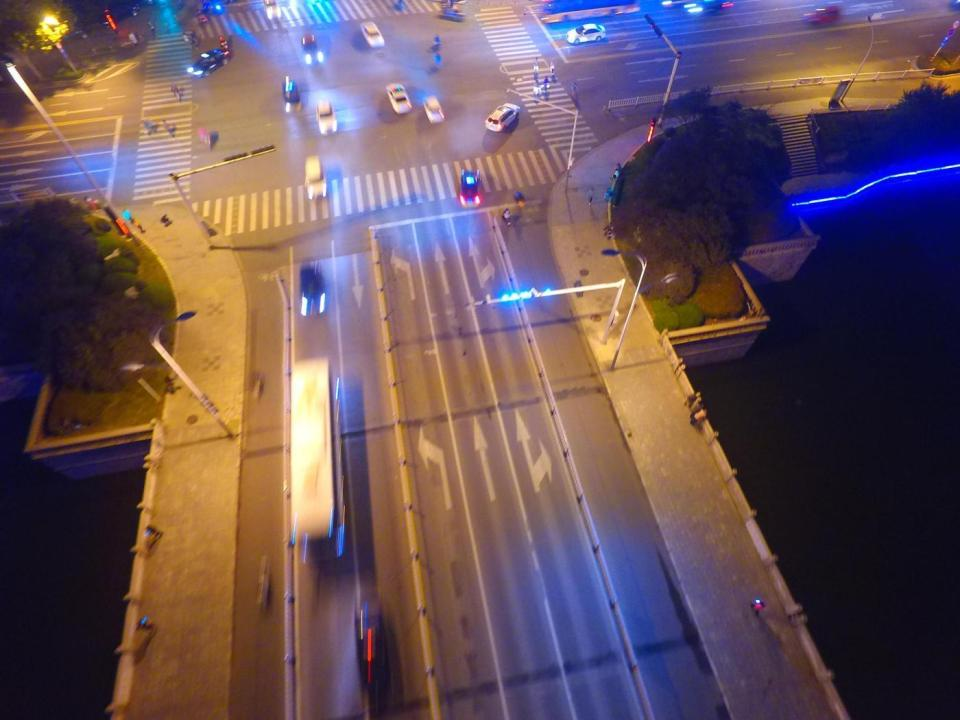bus: (288, 357, 345, 560), (537, 0, 641, 23)
car: (352, 606, 394, 692), (297, 260, 327, 315), (186, 49, 230, 79), (486, 102, 521, 132), (800, 3, 843, 27), (458, 166, 481, 208), (384, 81, 411, 115), (683, 0, 734, 18), (565, 23, 607, 44), (300, 31, 323, 66), (314, 102, 336, 137), (360, 21, 384, 51), (281, 80, 302, 113), (423, 95, 444, 124), (261, 0, 282, 21)
van: (303, 154, 326, 200)
